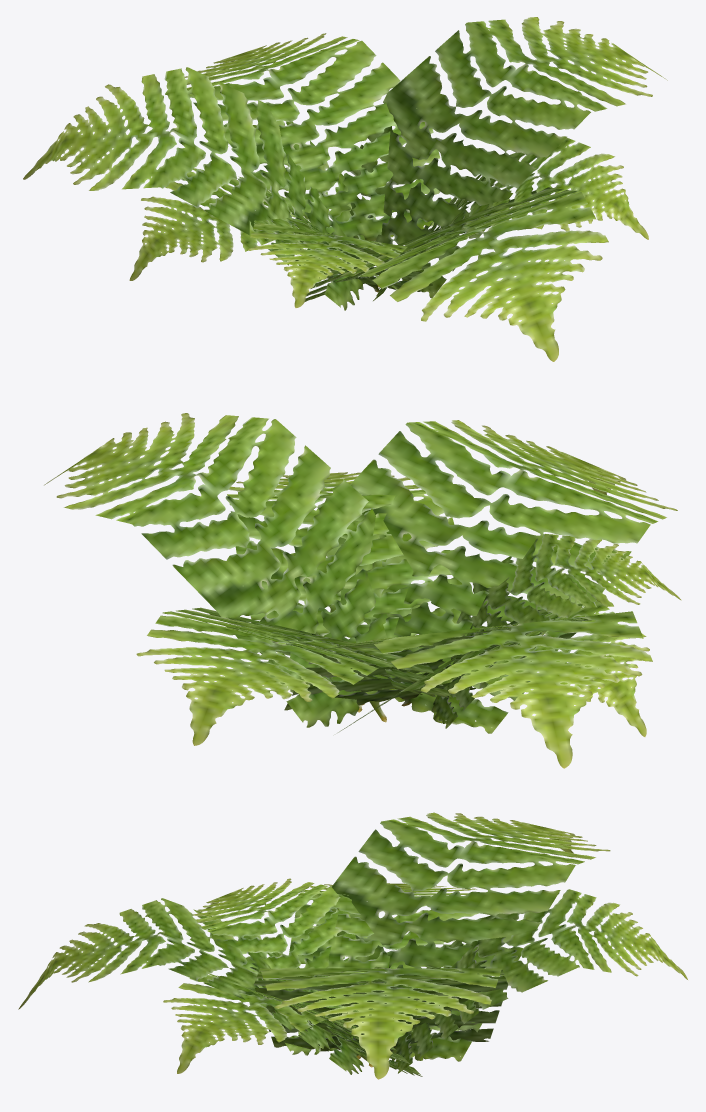
Rendered from Fern.fbx.
3 views of the same model, one above another, from view 1: azimuth 30°, elevation 25°; view 2: azimuth 150°, elevation 25°; view 3: azimuth 270°, elevation 25° (orthographic). The views are drawn at different scales.
Parts seen in each view (by area): view 1: Fern; view 2: Fern; view 3: Fern.
Boxes of the visible parts, x1,y1,x2,y2 form: Fern: (23, 17, 667, 361); Fern: (44, 413, 681, 768); Fern: (18, 812, 687, 1079).
Bounding box in the file's own units: 2.5 × 0.7768 × 2.59.
Materials: 1 (1 with a texture image).
